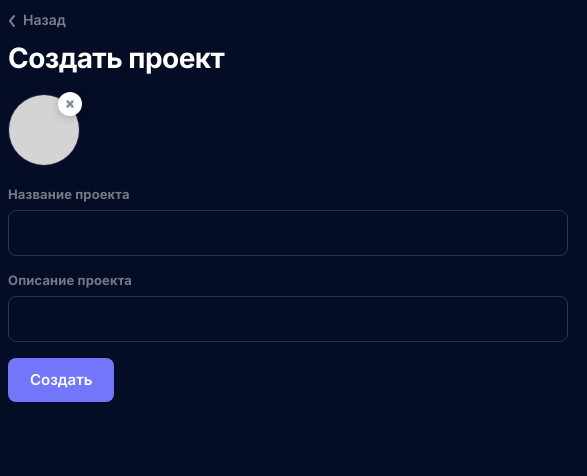
Scenario: CreateOwnerProjectPage › surfaces API error code when detail is omitted on create failure
In the field labelled "Название проекта": x=288, y=233 [9, 211, 567, 255], type "Мой магазин"
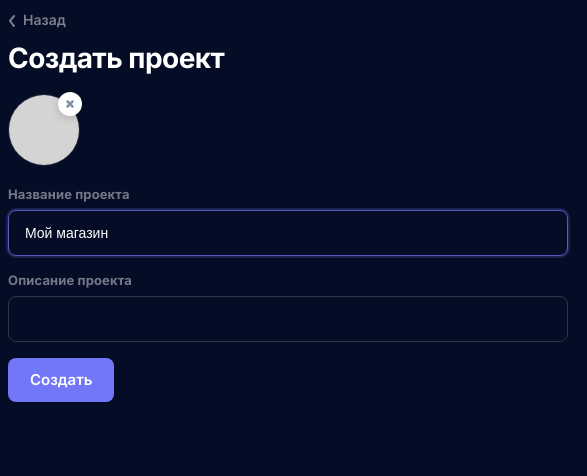
Click the button with test id "submit-form-btn": x=61, y=380 [8, 358, 114, 402]
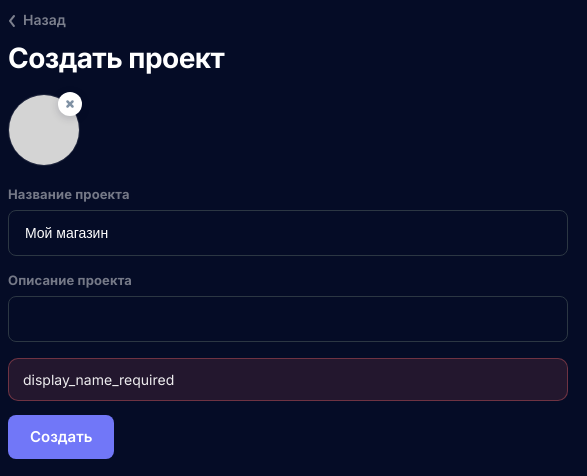
Now the text "display_name_required" is shown, box [8, 358, 568, 401]
